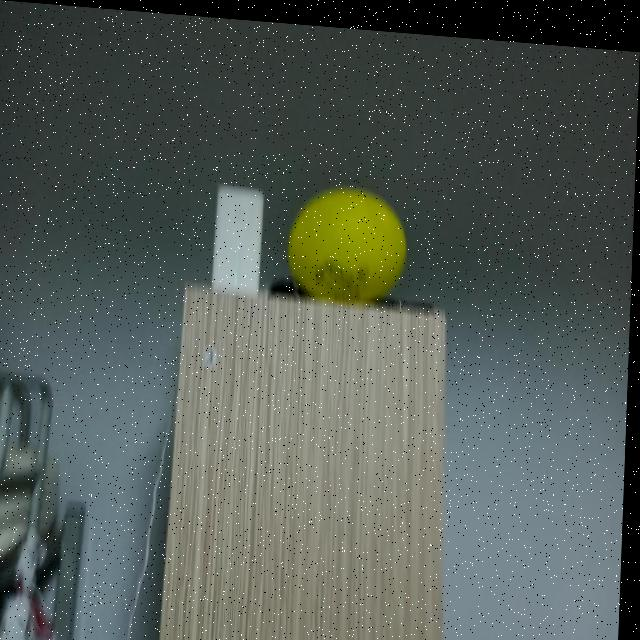balloon: (288, 173, 411, 299)
